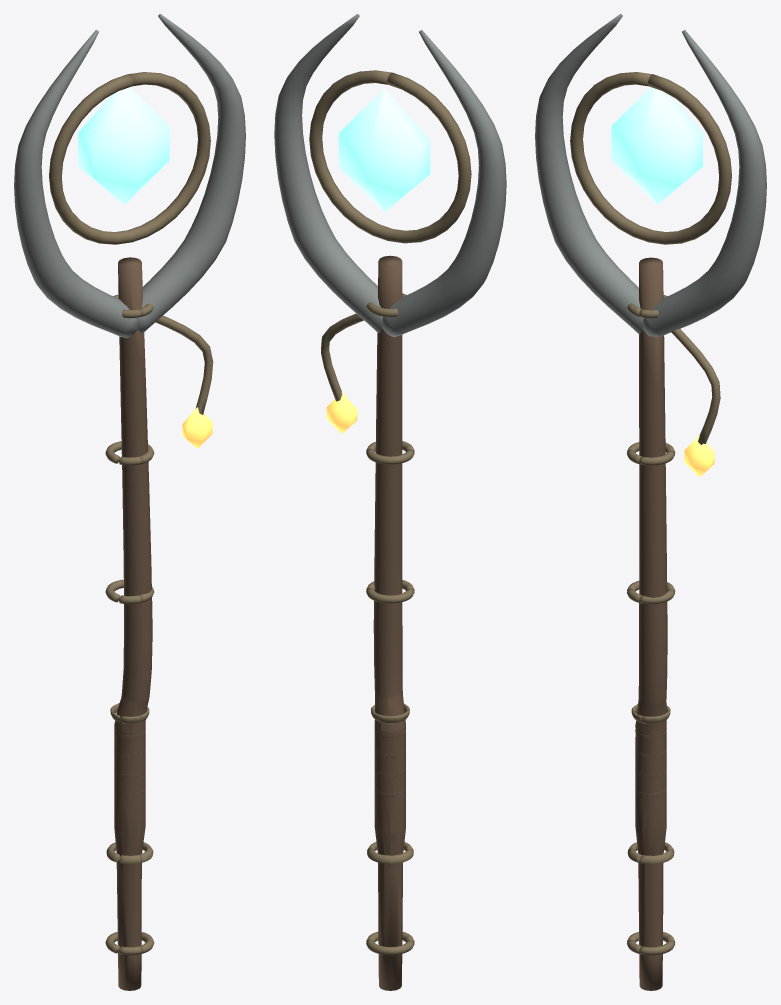
File: guardian_2-fitted.glb
3 views of the same model, side by side, from view 1: azimuth 30°, elevation 25°; view 2: azimuth 150°, elevation 25°; view 3: azimuth 330°, elevation 25° (orthographic).
Parts seen in each view (by area): view 1: Weapon__silver, Weapon__leather, Weapon__gold, Weapon__soul, Weapon__ember; view 2: Weapon__silver, Weapon__leather, Weapon__gold, Weapon__soul, Weapon__ember; view 3: Weapon__silver, Weapon__leather, Weapon__gold, Weapon__soul, Weapon__ember.
Boxes of the visible parts, <box> form: Weapon__silver: <box>14,14,245,338</box>; Weapon__leather: <box>114,257,152,990</box>; Weapon__gold: <box>49,72,213,955</box>; Weapon__soul: <box>78,87,169,204</box>; Weapon__ember: <box>182,407,212,448</box>; Weapon__silver: <box>274,14,506,337</box>; Weapon__leather: <box>373,255,405,990</box>; Weapon__gold: <box>309,70,471,955</box>; Weapon__soul: <box>338,88,430,212</box>; Weapon__ember: <box>326,392,357,433</box>; Weapon__silver: <box>535,14,766,337</box>; Weapon__leather: <box>635,257,667,990</box>; Weapon__gold: <box>570,72,731,955</box>; Weapon__soul: <box>611,87,702,204</box>; Weapon__ember: <box>684,435,714,476</box>.
Size of the model in its own units: 0.5509 by 2.22 by 0.156.
